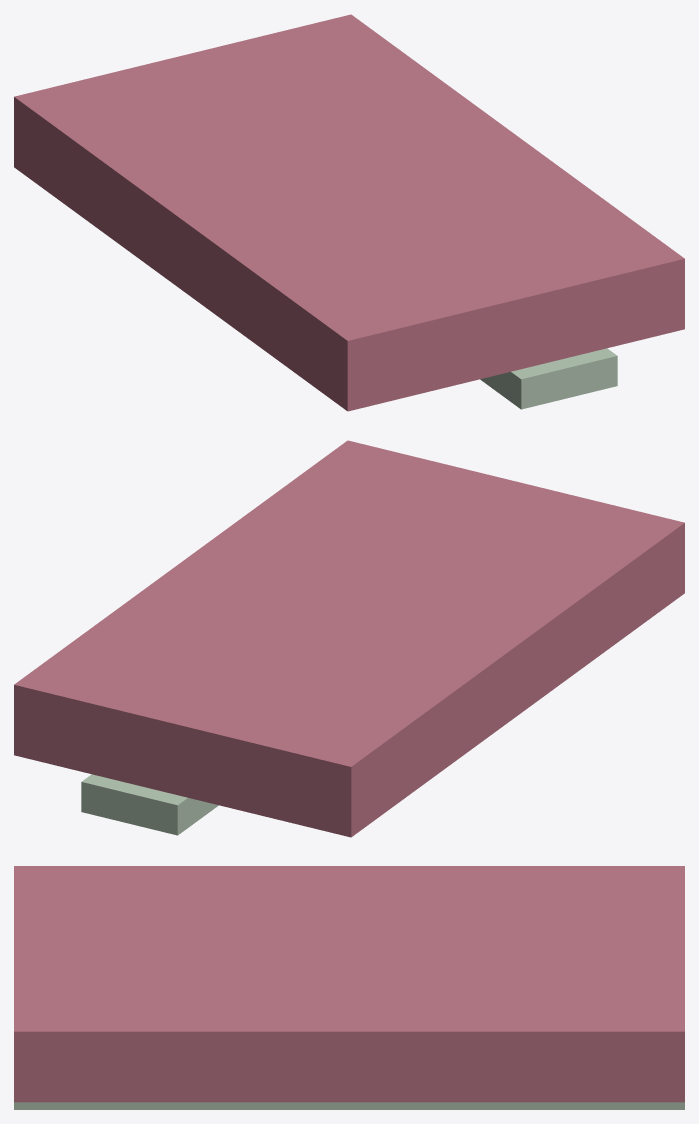
Rendered from 239532_pred.glb.
The picture shows the model from 3 angles, top to bottom: view 1: azimuth 30°, elevation 25°; view 2: azimuth 150°, elevation 25°; view 3: azimuth 270°, elevation 25°; orthographic projection.
Visible parts, largest first — view 1: world; view 2: world; view 3: world.
Boxes of the visible parts, x1,y1,x2,y2 form: world: [14, 14, 684, 411]; world: [14, 440, 684, 837]; world: [14, 866, 684, 1109].
Size of the model in its own units: 3.5 by 1.1 by 6.
